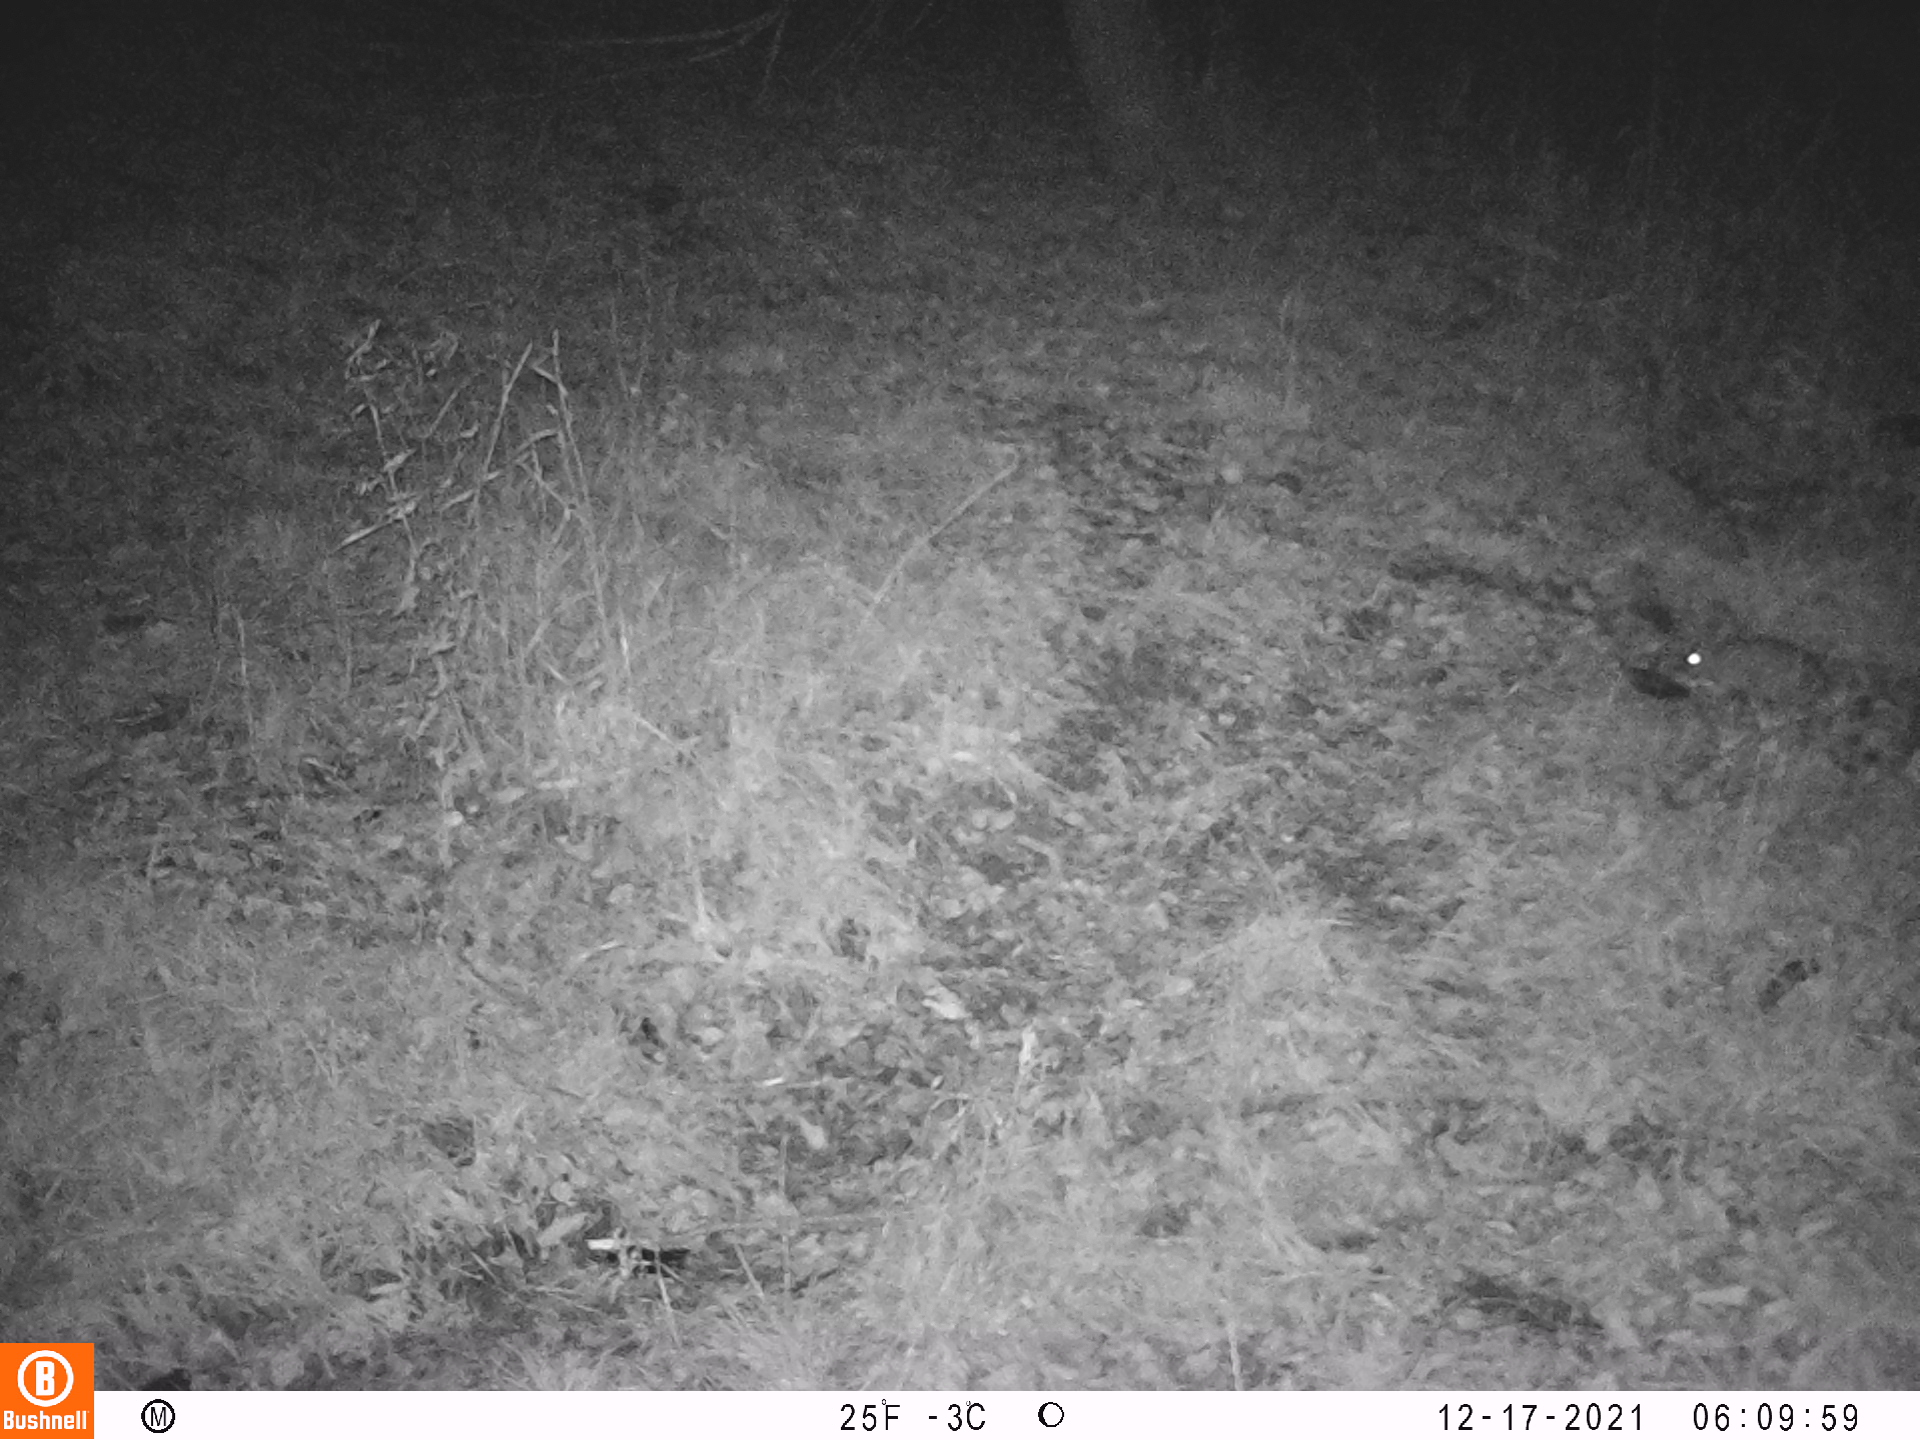Rabbit: (1671, 599, 1832, 715)
